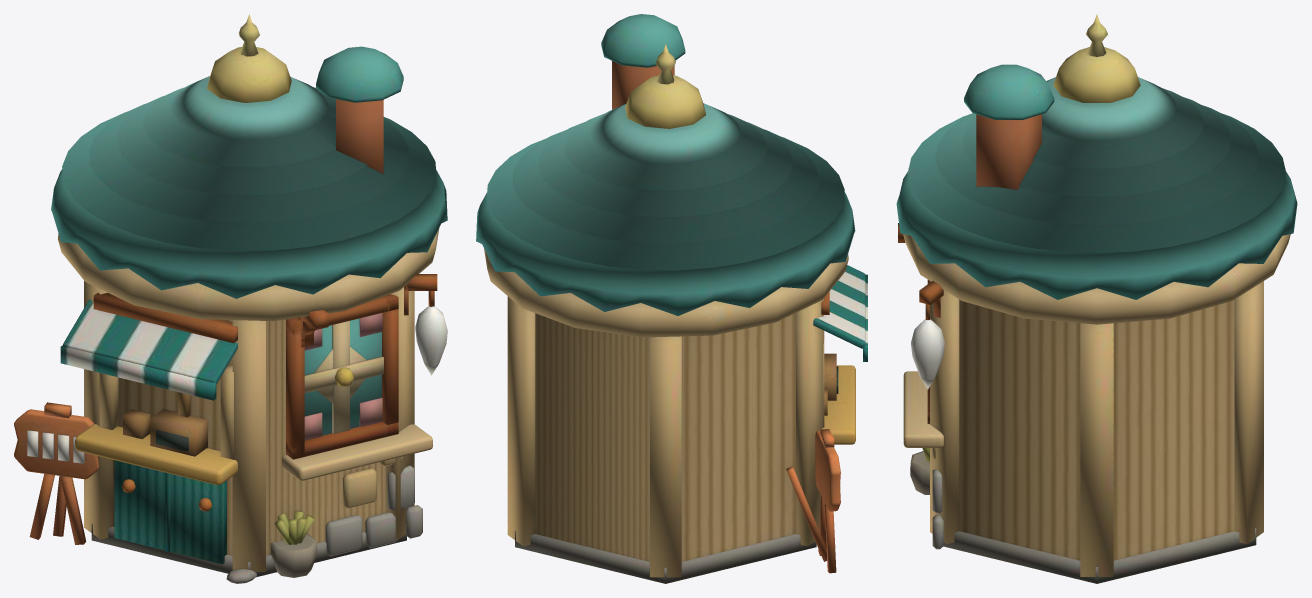
Rendered from kiosk_3_mid.glb.
3 renders of one model, left to right at view 1: azimuth 30°, elevation 25°; view 2: azimuth 150°, elevation 25°; view 3: azimuth 270°, elevation 25°, orthographic. The views are drawn at different scales.
Visible parts, largest first — view 1: kiosk_3; view 2: kiosk_3; view 3: kiosk_3.
Boxes of the visible parts, x1,y1,x2,y2 form: kiosk_3: [14, 14, 447, 583]; kiosk_3: [476, 14, 867, 583]; kiosk_3: [896, 14, 1297, 583].
Bounding box in the file's own units: 1.2 × 1.47 × 1.08.
1 material, 1 textured.
